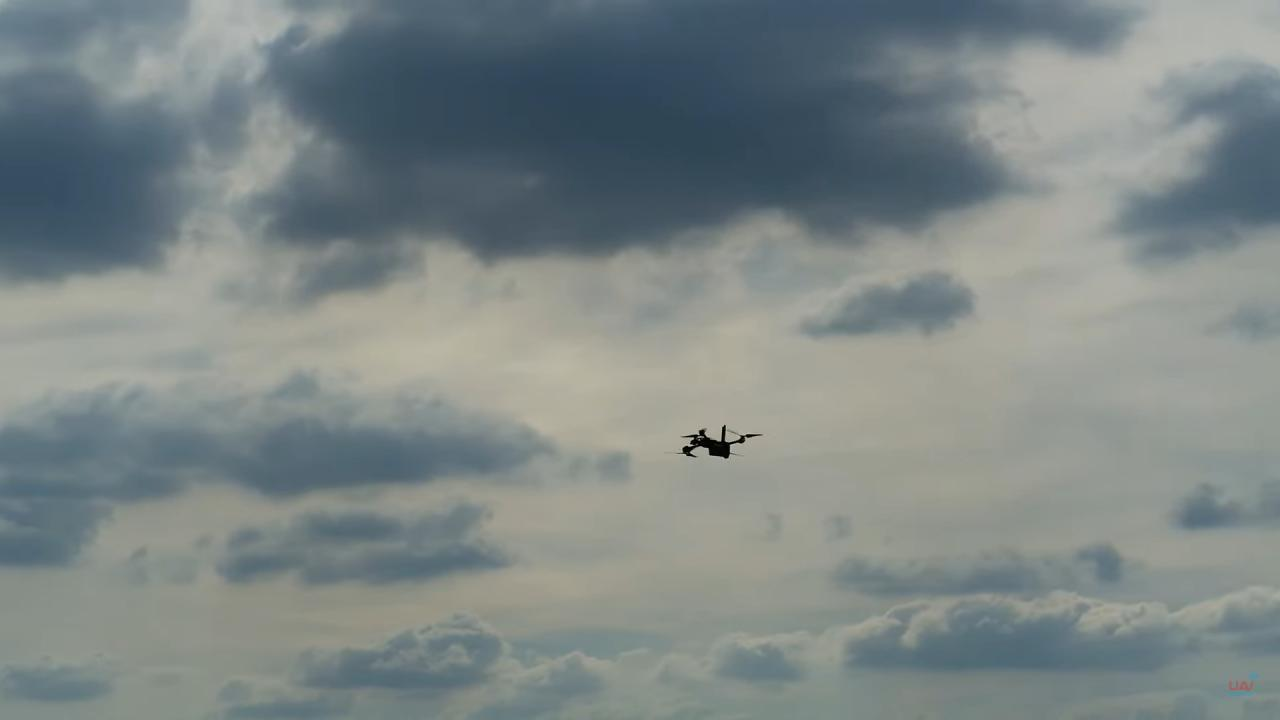Drone: (660, 410, 775, 472)
